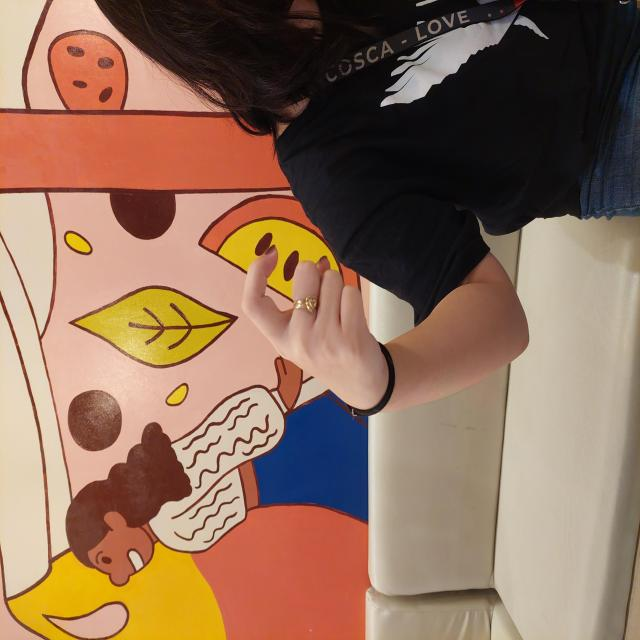X: (230, 239, 399, 386)
